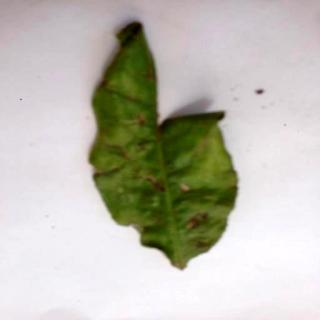Algal Leaf: (89, 21, 241, 272)
